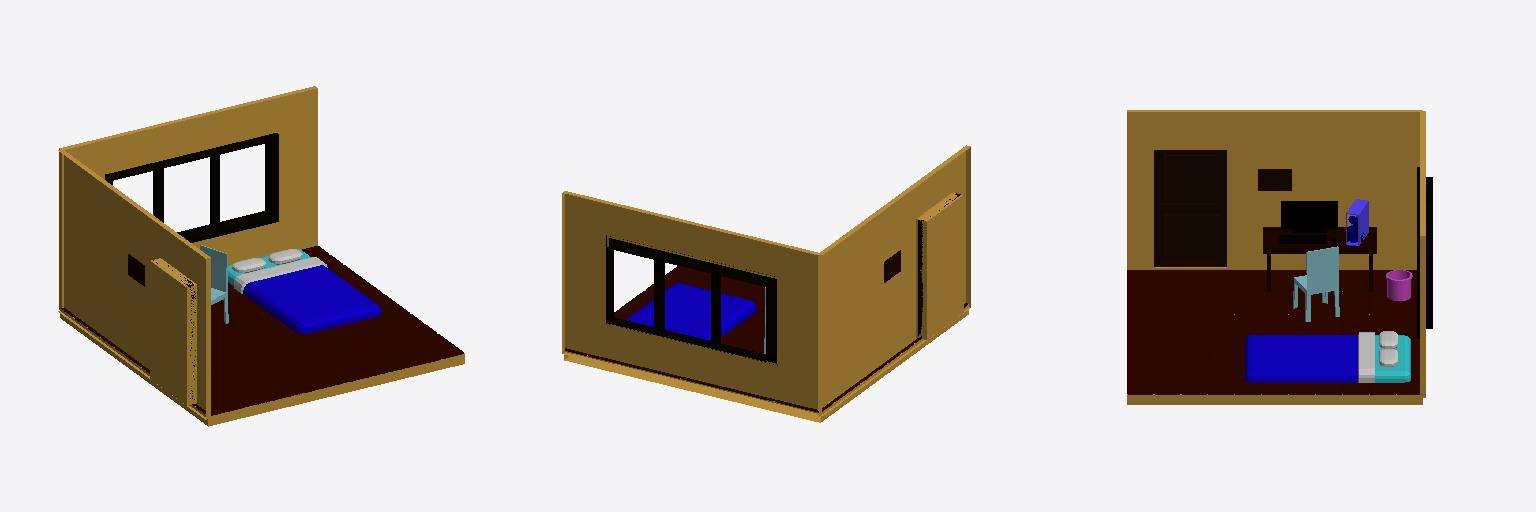
The model's file is Inside.obj.
3 renders of one model, left to right at view 1: azimuth 30°, elevation 25°; view 2: azimuth 150°, elevation 25°; view 3: azimuth 270°, elevation 25°, orthographic.
Visible parts, largest first — view 1: WallX_Material.015, Floor_Material, WallZ_Material.015, mattress_Material.010, WallY.001_Material.009, WallY_Material.015, mattress_Material.011, chair_Material.014; view 2: WallZ_Material.015, WallX_Material.015, WallY.001_Material.009, Floor_Material, mattress_Material.010, WallY_Material.015; view 3: WallX_Material.015, Floor_Material, door_Material.013, mattress_Material.010, WallY_Material.015, table_Material.008, chair_Material.014, monitor_Material.007, WallZ_Material.015, WallY.001_Material.009, mattress_Material.011, mattress_Material.012 (+3 smaller).
Boxes of the visible parts, <box> form: WallX_Material.015: <box>58,150,210,419</box>; Floor_Material: <box>61,246,463,415</box>; WallZ_Material.015: <box>59,86,317,311</box>; mattress_Material.010: <box>243,265,380,333</box>; WallY.001_Material.009: <box>105,133,278,242</box>; WallY_Material.015: <box>60,310,464,426</box>; mattress_Material.011: <box>232,249,327,293</box>; chair_Material.014: <box>200,245,228,323</box>; WallZ_Material.015: <box>562,191,821,416</box>; WallX_Material.015: <box>818,145,970,415</box>; WallY.001_Material.009: <box>606,235,777,365</box>; Floor_Material: <box>565,266,967,412</box>; mattress_Material.010: <box>626,283,756,340</box>; WallY_Material.015: <box>564,290,968,422</box>; WallX_Material.015: <box>1127,110,1422,269</box>; Floor_Material: <box>1127,270,1419,394</box>; door_Material.013: <box>1154,150,1226,266</box>; mattress_Material.010: <box>1245,335,1357,382</box>; WallY_Material.015: <box>1127,291,1422,404</box>; table_Material.008: <box>1263,227,1376,291</box>; chair_Material.014: <box>1293,246,1339,321</box>; monitor_Material.007: <box>1281,201,1337,232</box>; WallZ_Material.015: <box>1420,111,1425,397</box>; WallY.001_Material.009: <box>1417,167,1432,338</box>; mattress_Material.011: <box>1358,331,1397,382</box>; mattress_Material.012: <box>1375,335,1410,382</box>.
Bounding box in the file's own units: 10.32 × 6.27 × 10.33.